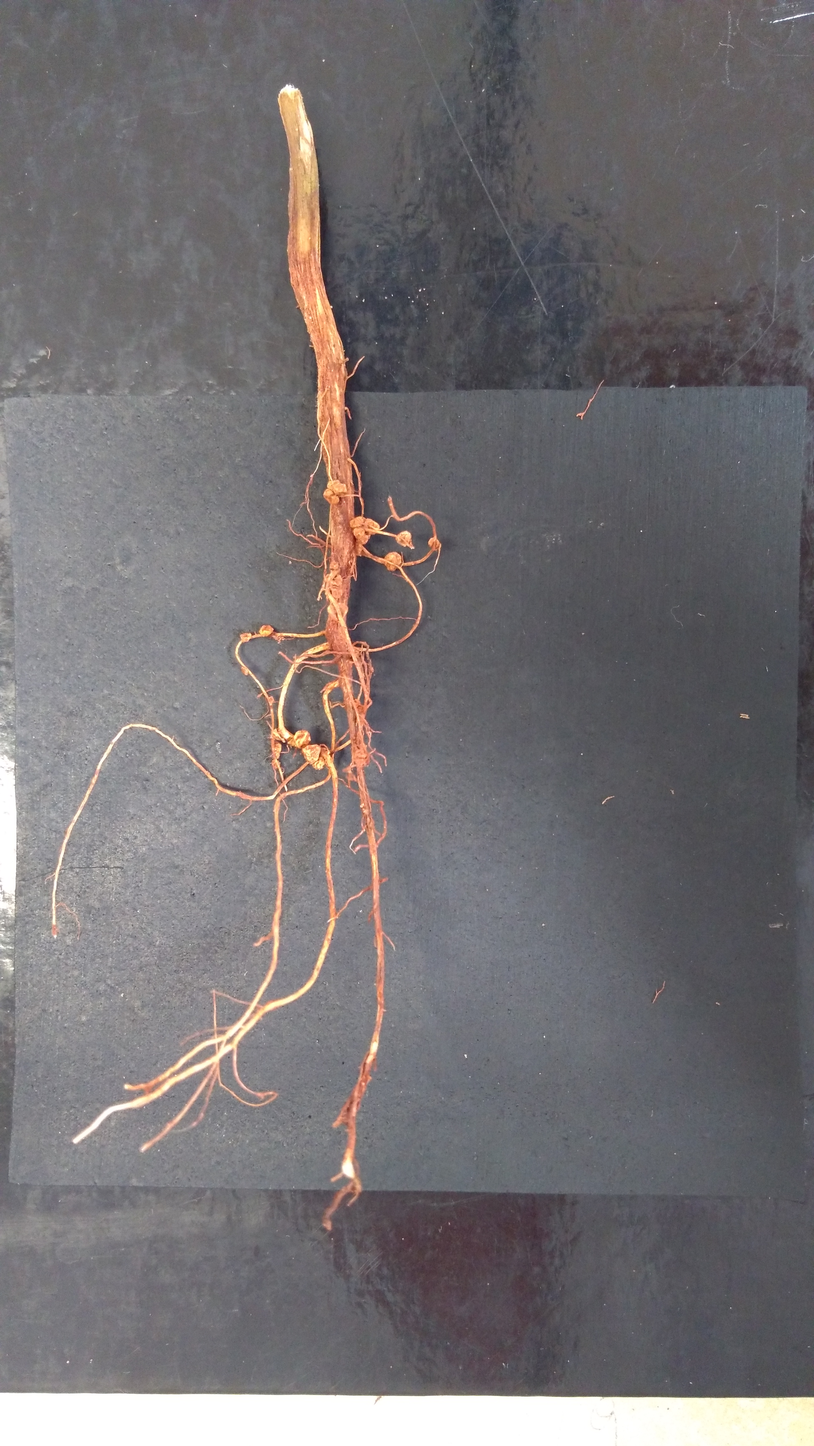nodule: (312, 744, 330, 770), (324, 574, 343, 598), (352, 742, 369, 767), (327, 602, 348, 622), (302, 744, 321, 765), (326, 480, 348, 498), (293, 730, 311, 749), (355, 534, 370, 556), (384, 552, 401, 571), (363, 518, 380, 535), (395, 531, 412, 547), (323, 489, 340, 504), (271, 728, 287, 743), (353, 699, 365, 717), (271, 741, 282, 759), (350, 516, 366, 528), (428, 537, 441, 551), (259, 625, 274, 637), (353, 527, 365, 539), (240, 632, 251, 642), (271, 759, 280, 770), (329, 561, 339, 569), (241, 666, 248, 676), (267, 696, 274, 706)
